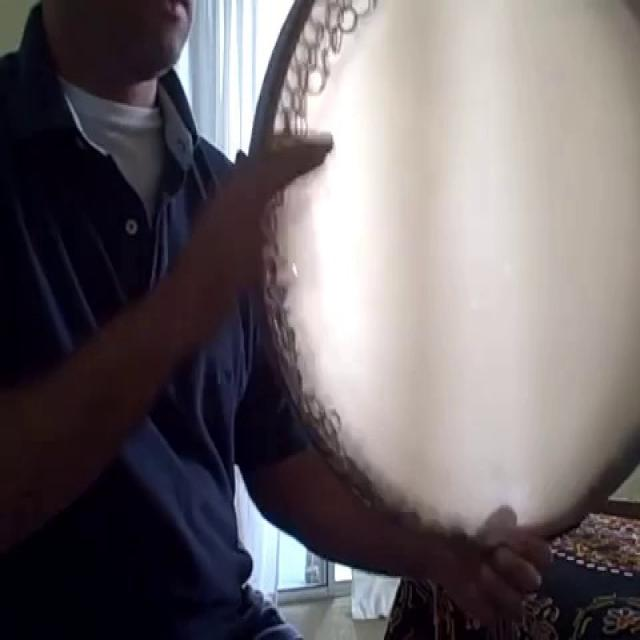Daf: (244, 2, 640, 541)
